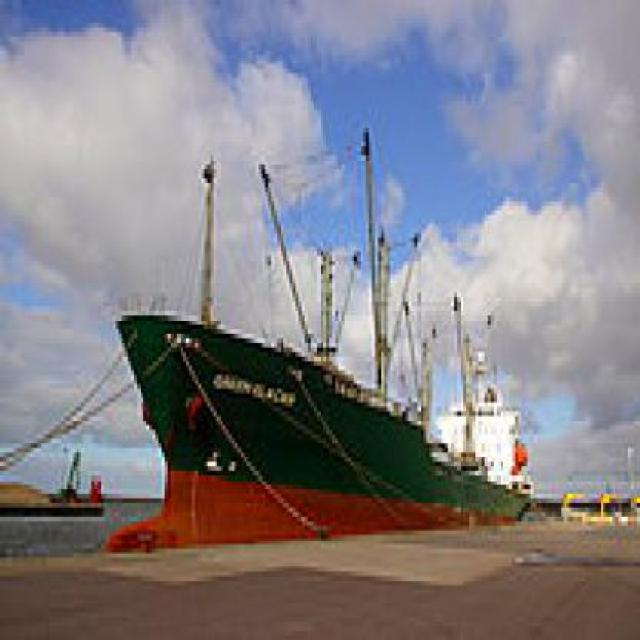container: (102, 124, 543, 546)
